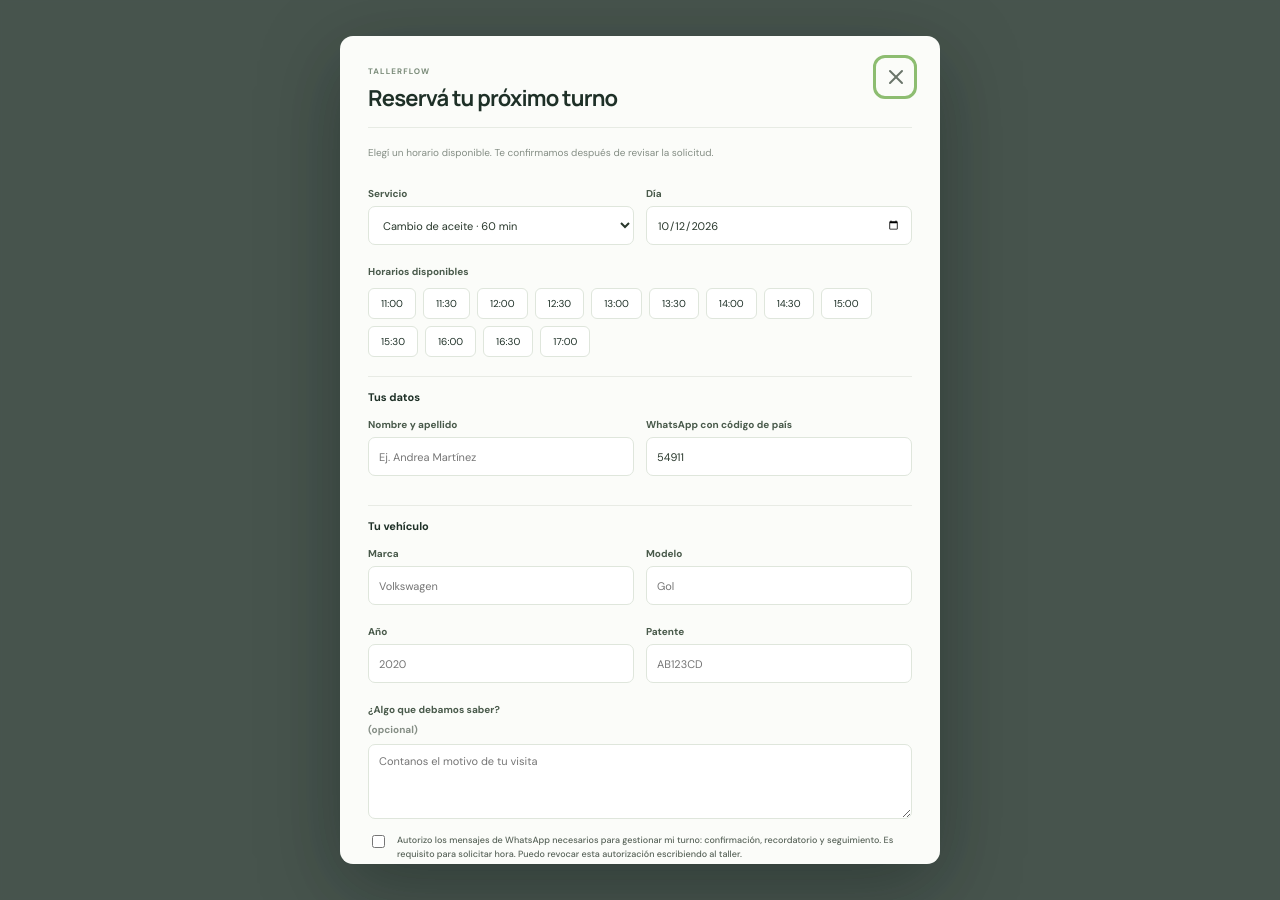
Test case: Booking (modo demo) › el botón queda bloqueado sin horario elegido y habilita al elegir uno
Click the button "11:00": click(392, 304) [368, 288, 416, 319]
(page scrolled)
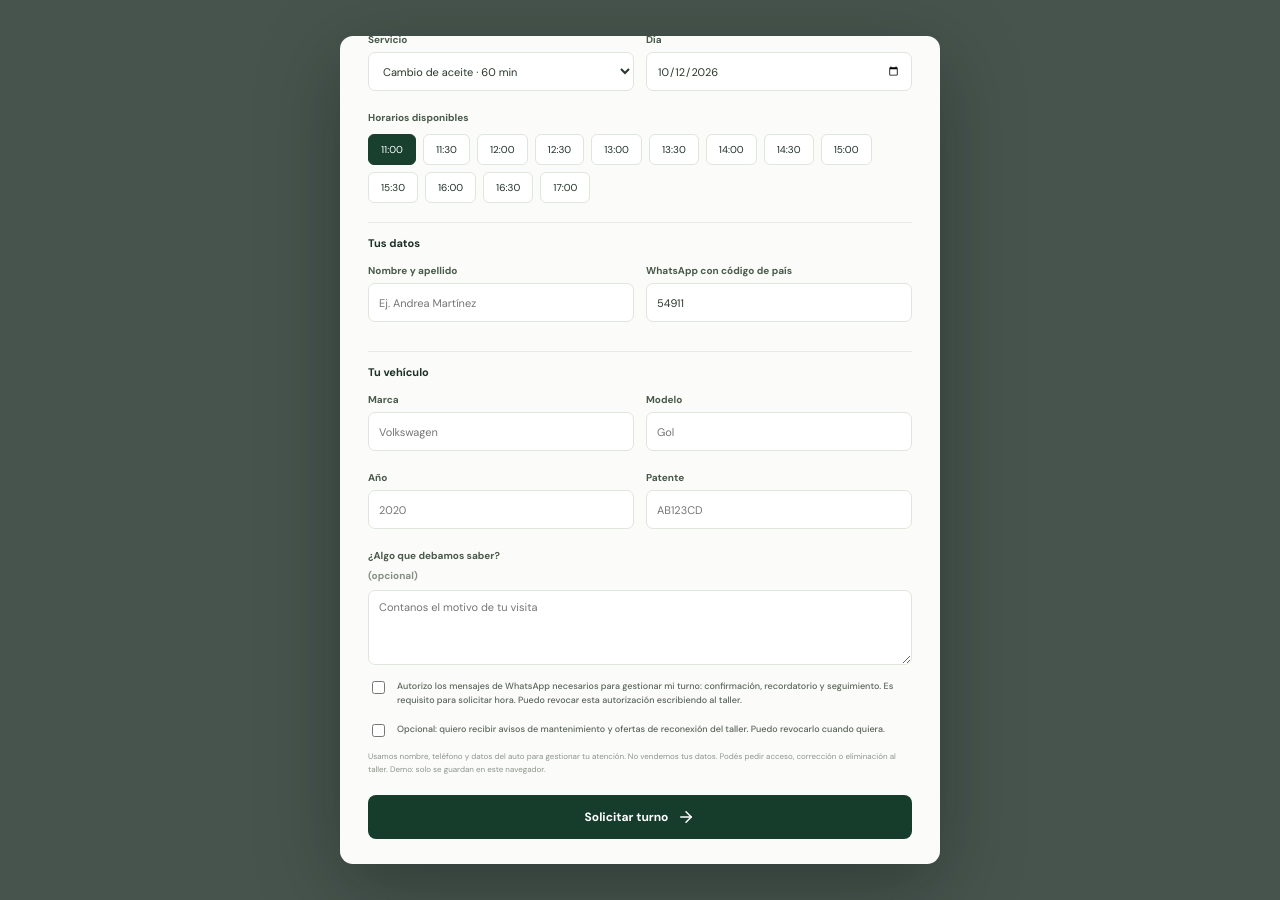
Now the button "Solicitar turno" is enabled, box [368, 795, 912, 839]
